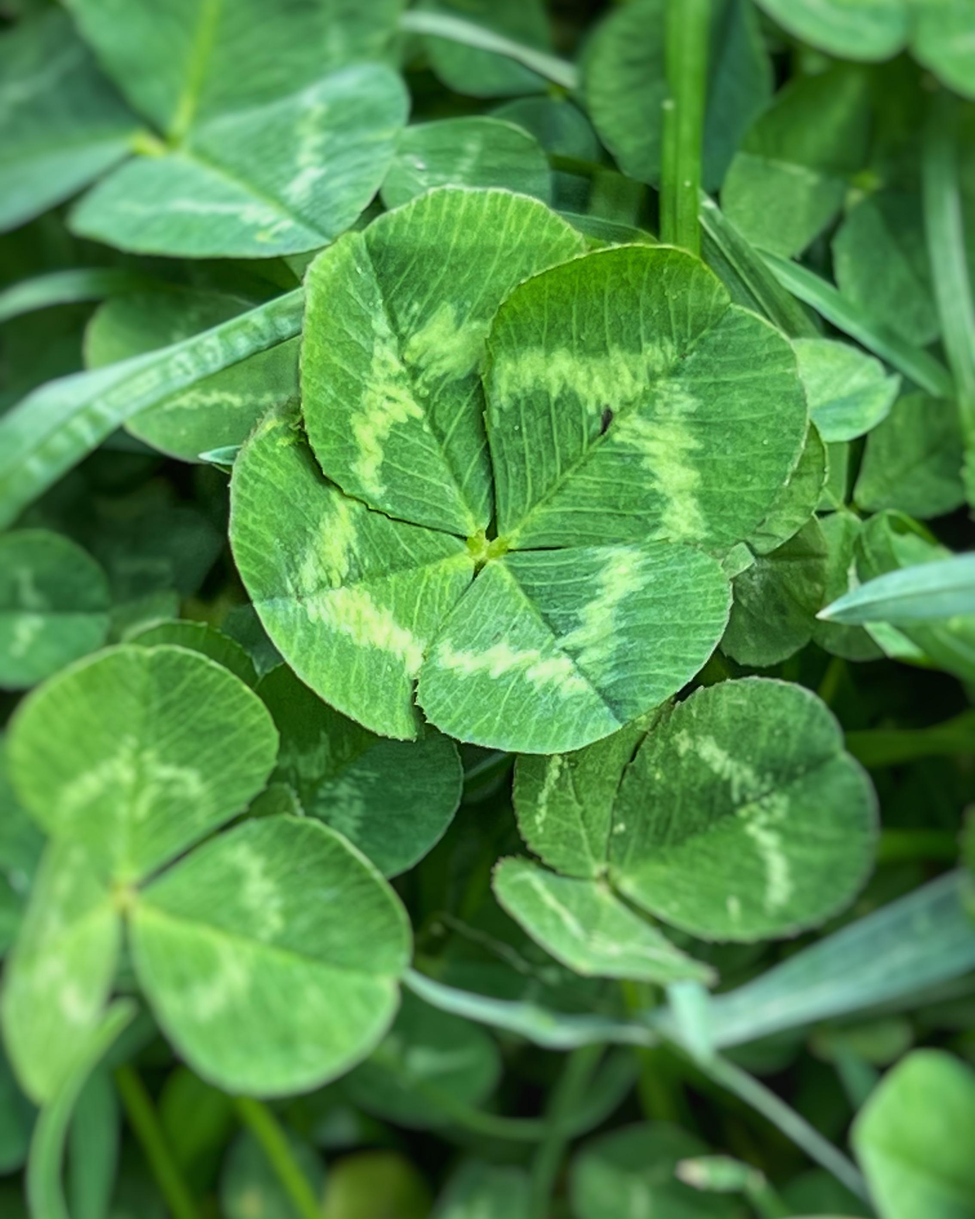4-Leaf-Clovers: (246, 188, 813, 749)
